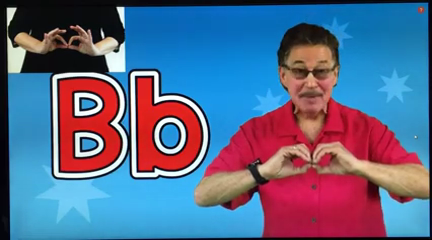B: (266, 139, 357, 180), (40, 24, 96, 59)
